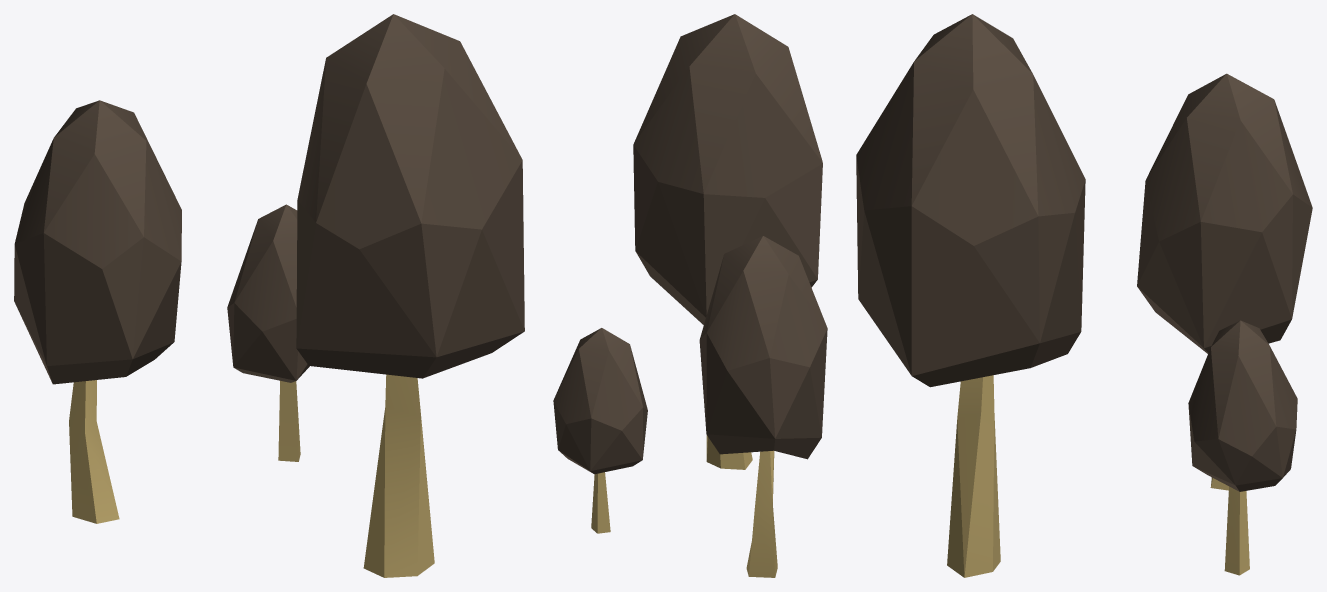
Rendered from FungusA.fbx.
The picture shows the model from 3 angles, left to right: view 1: azimuth 30°, elevation 25°; view 2: azimuth 150°, elevation 25°; view 3: azimuth 270°, elevation 25°; orthographic projection. The views are drawn at different scales.
Parts seen in each view (by area): view 1: FungusA; view 2: FungusA; view 3: FungusA.
Boxes of the visible parts, bbox=[...] form: FungusA: bbox=[14, 14, 524, 577]; FungusA: bbox=[553, 14, 827, 577]; FungusA: bbox=[856, 14, 1312, 577].
Bounding box in the file's own units: 13.64 × 21.19 × 16.02.
